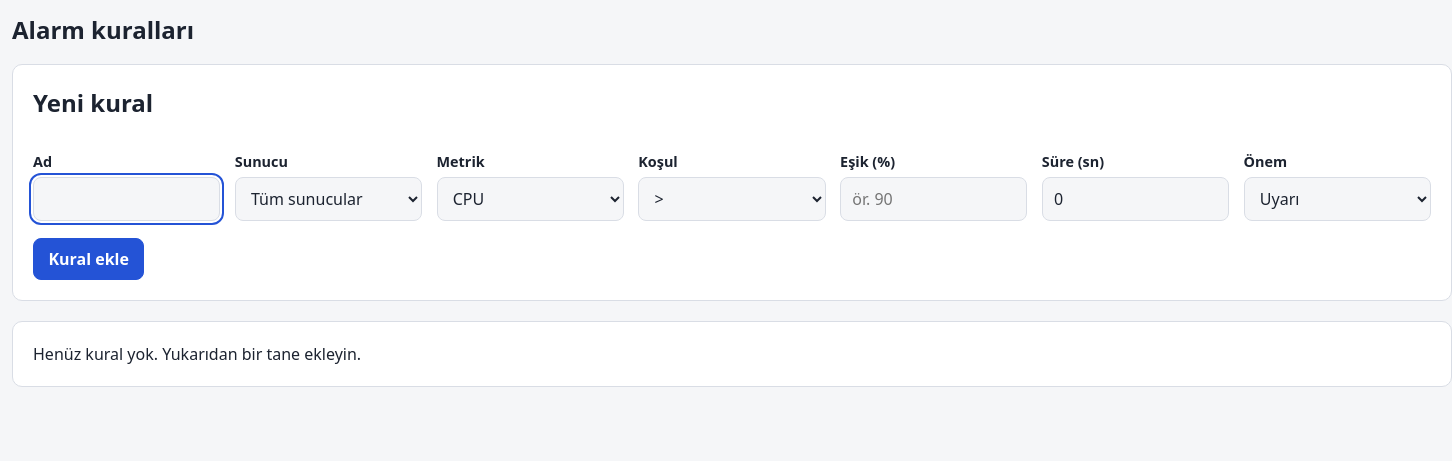
Test case: RulesPage › form: sunucu hatasında (400) mesaj gösterilir, form silinmez
Expected: the text "Henüz kural yok. Yukarıdan bir tane ekleyin." is shown, [12,321,1451,387]
Type "Yeni kural" into the field labelled "Ad" at (127, 199), box [33,177,220,220]
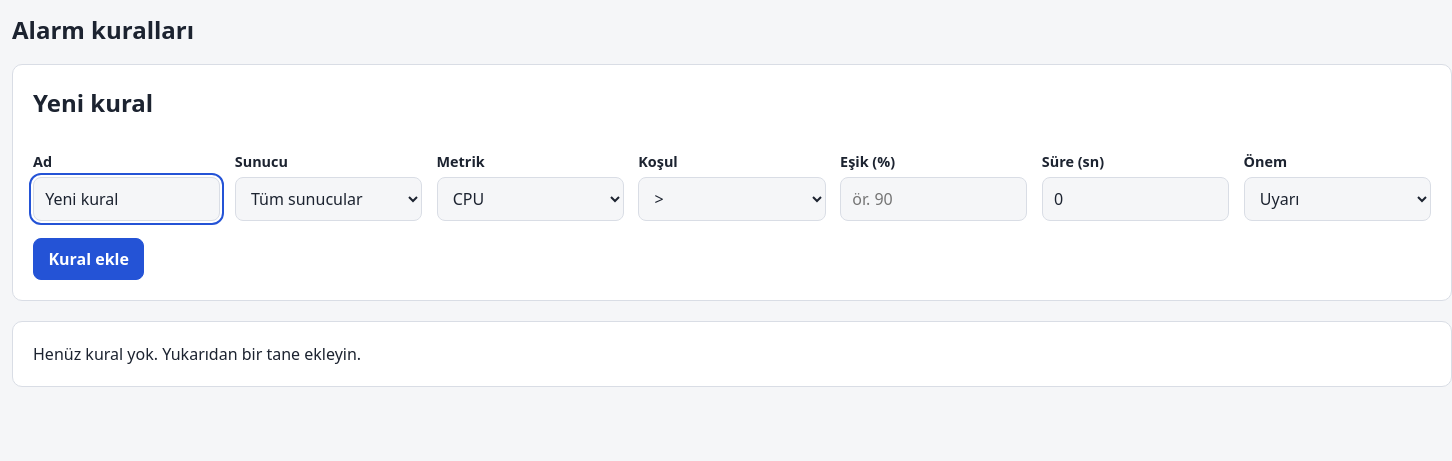
Type "80" into the field labelled "Eşik (%)" at (934, 199), box [840,177,1028,220]
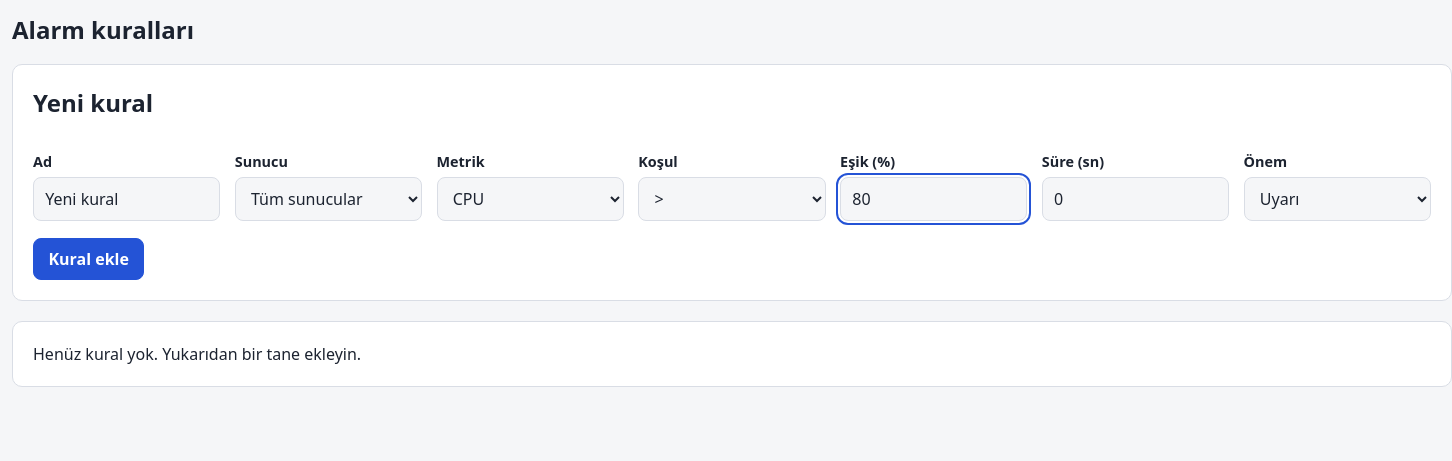
Click the button "Kural ekle" at (89, 259), box [33,238,144,280]
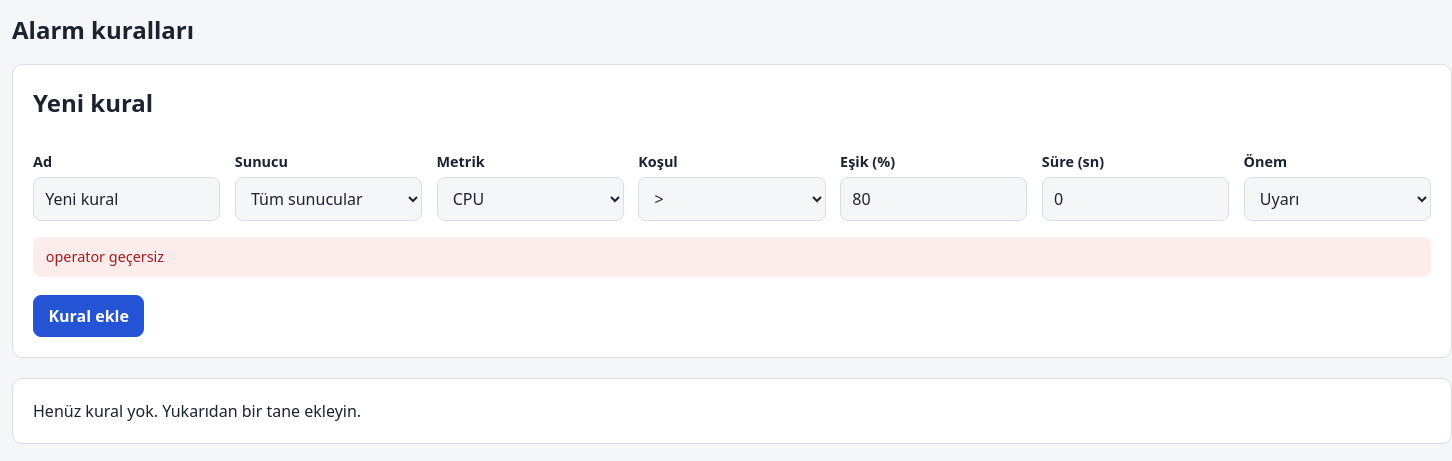
Expected: the message reads "operator geçersiz", [46,247,164,266]
